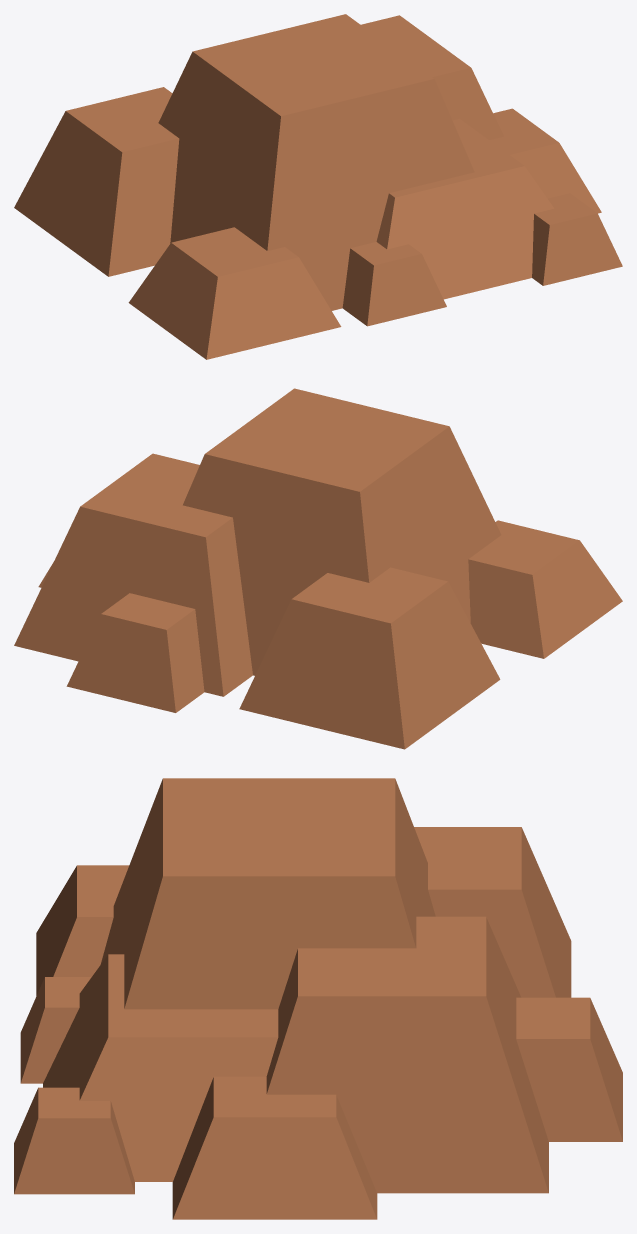
The model's file is rocks.glb.
3 renders of one model, top to bottom at view 1: azimuth 30°, elevation 25°; view 2: azimuth 150°, elevation 25°; view 3: azimuth 270°, elevation 25°, orthographic. The views are drawn at different scales.
Parts seen in each view (by area): view 1: rocks; view 2: rocks; view 3: rocks.
Boxes of the visible parts, <box> form: rocks: <box>14,14,622,359</box>; rocks: <box>14,388,622,749</box>; rocks: <box>14,778,622,1219</box>.
Bounding box in the file's own units: 8.93 × 3.4 × 8.03.
